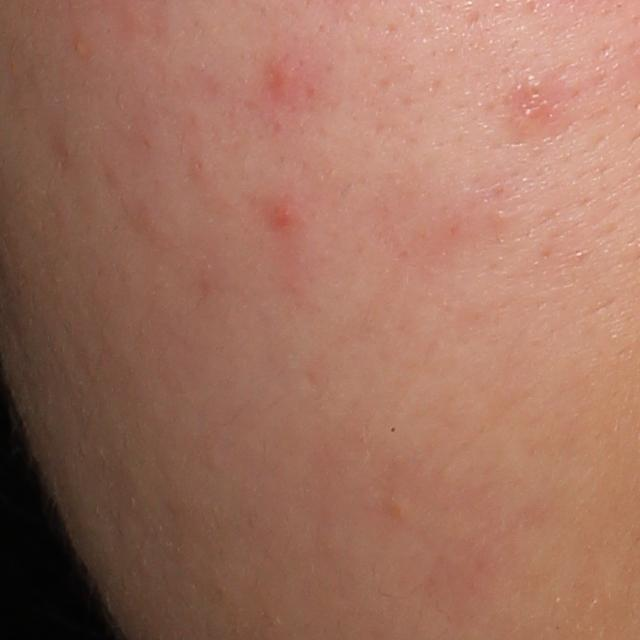comedo: (387, 495, 411, 519)
papule: (259, 55, 304, 104), (268, 198, 299, 237)
